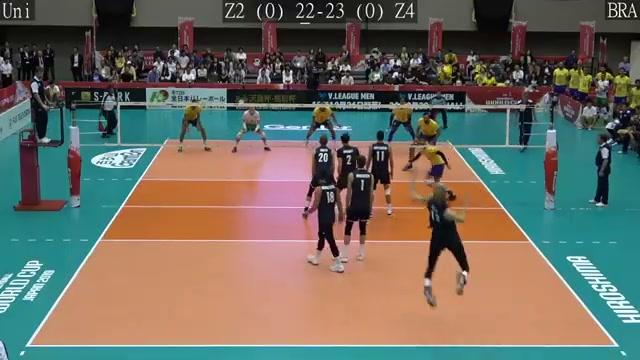ball: (438, 64, 453, 78)
